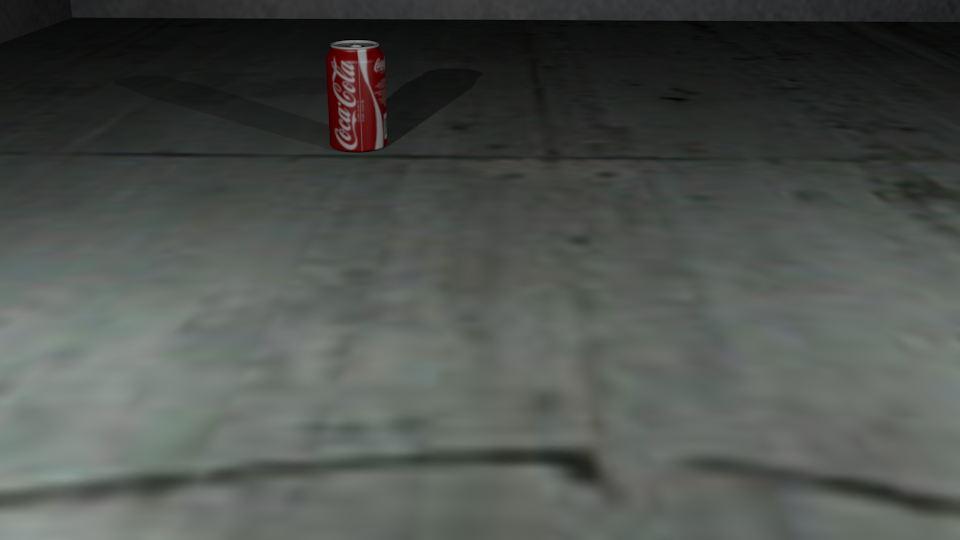apple: (616, 190, 728, 290), (174, 176, 232, 216), (604, 536, 639, 540)
banana: (405, 230, 588, 263), (91, 231, 255, 256), (120, 1, 204, 6)
cola_can: (327, 41, 386, 152), (129, 280, 205, 330)
orange: (72, 208, 175, 299), (164, 211, 234, 269), (616, 269, 661, 307)
